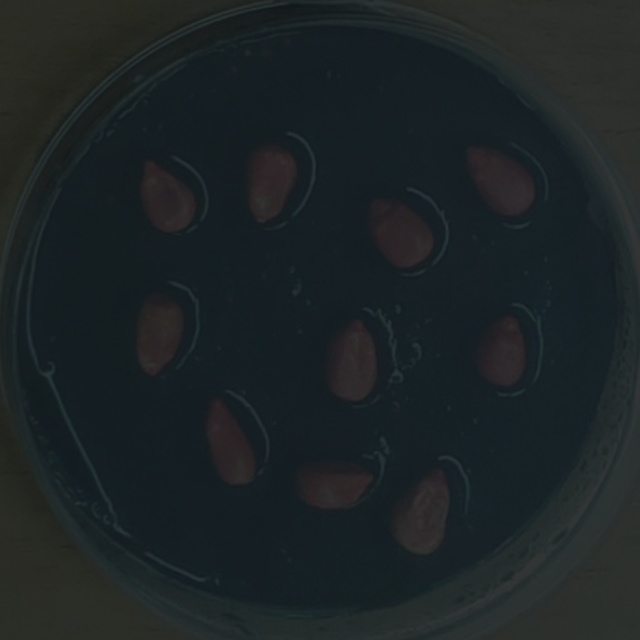Zea mays: (379, 455, 455, 561), (456, 133, 543, 223), (197, 387, 270, 492), (358, 187, 440, 276), (315, 306, 385, 409), (283, 445, 382, 516), (236, 130, 304, 230), (133, 147, 202, 239), (128, 284, 191, 383), (463, 304, 530, 394)
